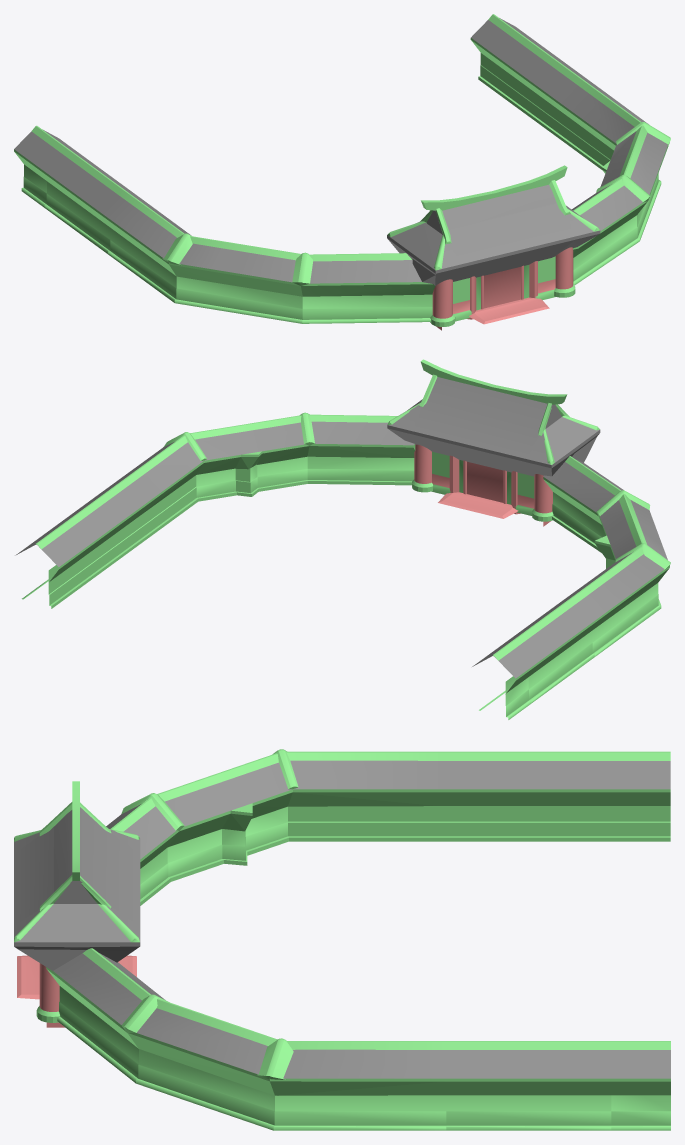
File: COL_SM_ENV_KNVLLG03_AreaD_Hokage_Gate.gltf
3 views of the same model, one above another, from view 1: azimuth 30°, elevation 25°; view 2: azimuth 150°, elevation 25°; view 3: azimuth 270°, elevation 25° (orthographic). The views are drawn at different scales.
Visible parts, largest first — view 1: COL_SM_ENV_KNVLLG03_AreaD_Hokage_Gate; view 2: COL_SM_ENV_KNVLLG03_AreaD_Hokage_Gate; view 3: COL_SM_ENV_KNVLLG03_AreaD_Hokage_Gate.
Boxes of the visible parts, x1,y1,x2,y2 form: COL_SM_ENV_KNVLLG03_AreaD_Hokage_Gate: (14, 14, 670, 330); COL_SM_ENV_KNVLLG03_AreaD_Hokage_Gate: (15, 359, 670, 719); COL_SM_ENV_KNVLLG03_AreaD_Hokage_Gate: (14, 749, 670, 1130).
Size of the model in its own units: 50.17 by 11.92 by 43.74.
